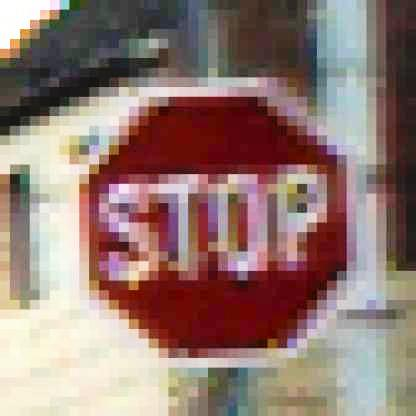Stop Sign: (66, 76, 359, 370)
